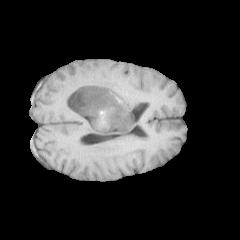glioma: (71, 82, 141, 134)
